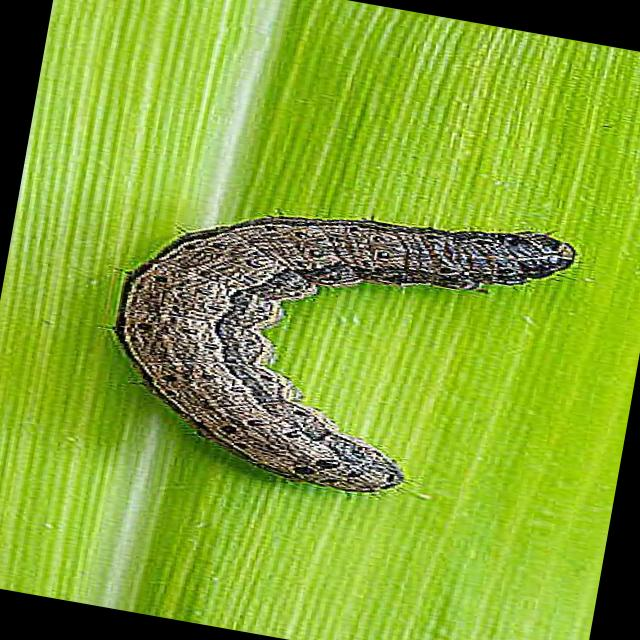Armyworm: (6, 137, 600, 550)
